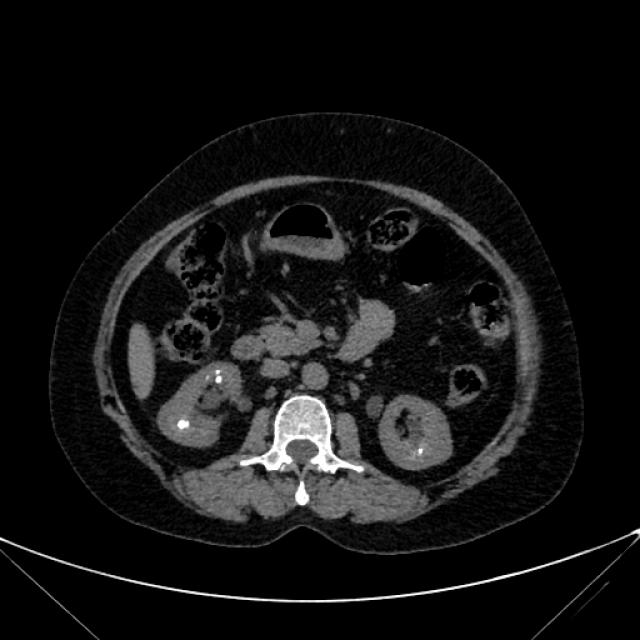kidney: (167, 362, 239, 445), (388, 402, 443, 464)
stone: (178, 421, 189, 428), (215, 374, 222, 383), (418, 449, 422, 453), (217, 371, 220, 374)
